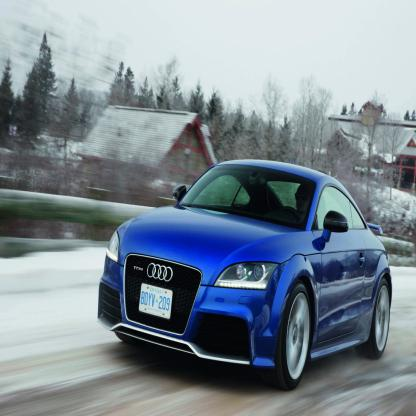Vehicle: (95, 157, 394, 394)
